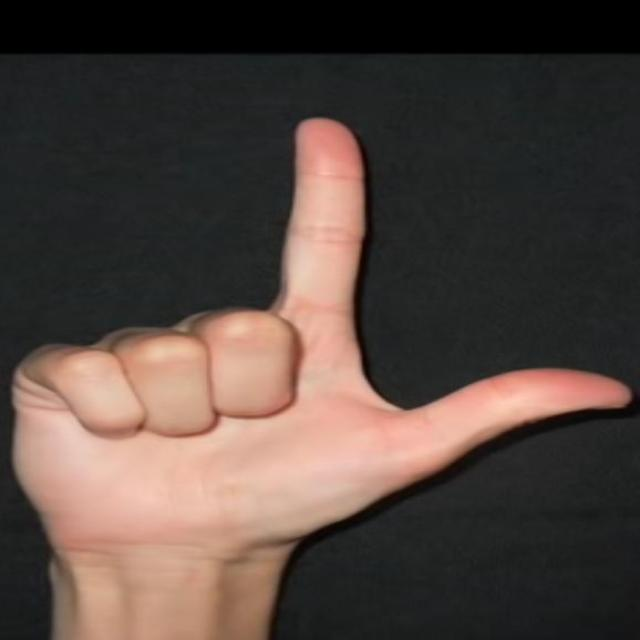L: (0, 110, 638, 562)
